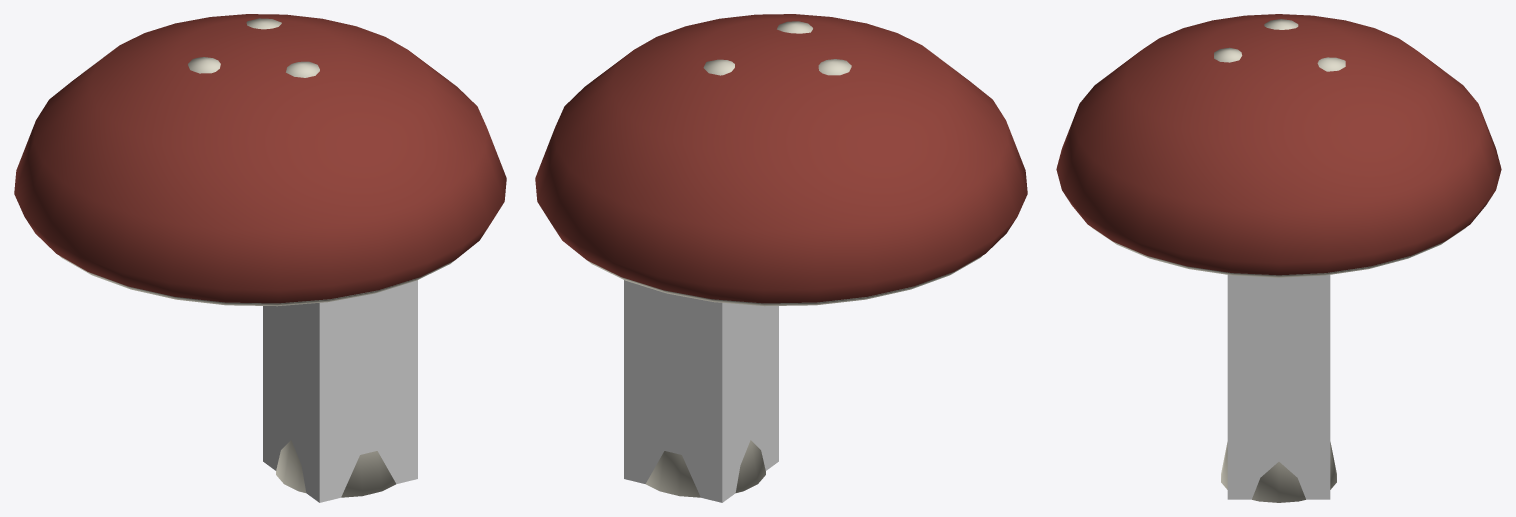
File: stop-4.glb
3 views of the same model, side by side, from view 1: azimuth 30°, elevation 25°; view 2: azimuth 150°, elevation 25°; view 3: azimuth 270°, elevation 25° (orthographic). The views are drawn at different scales.
Parts seen in each view (by area): view 1: 01_paint2, solid, 00_#d8d4c4; view 2: 01_paint2, solid, 00_#d8d4c4; view 3: 01_paint2, solid, 00_#d8d4c4.
Part boxes in pixels (x1,y1,x2,y2): 01_paint2: (14,14,506,303); solid: (263,280,417,502); 00_#d8d4c4: (59,18,454,497); 01_paint2: (535,14,1027,303); solid: (624,280,778,502); 00_#d8d4c4: (587,21,982,497); 01_paint2: (1056,14,1501,275); solid: (1227,275,1330,499); 00_#d8d4c4: (1091,19,1466,502).
Size of the model in its own units: 3.48 by 3.44 by 3.48.
